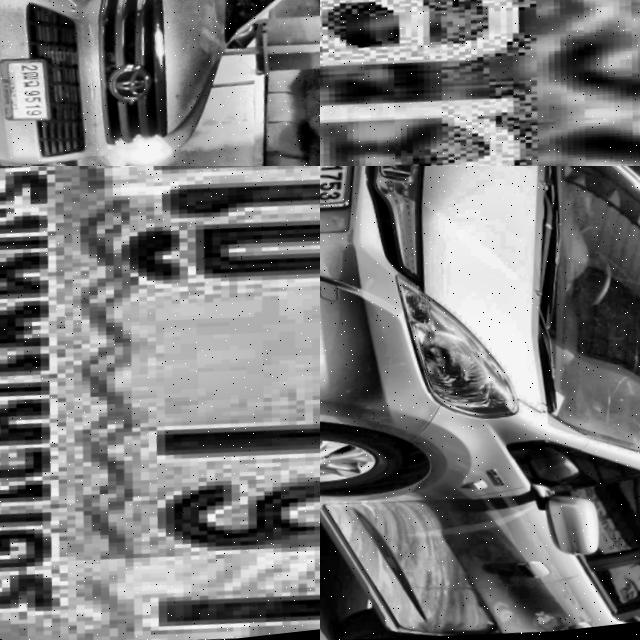license-plate: (0, 166, 320, 640), (320, 0, 640, 166), (0, 56, 49, 131), (320, 166, 370, 226)
